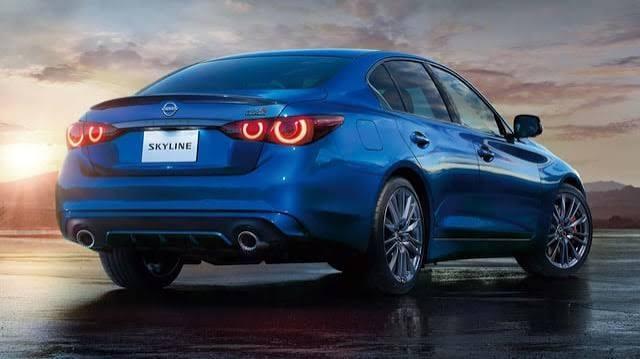car: (36, 60, 591, 298)
